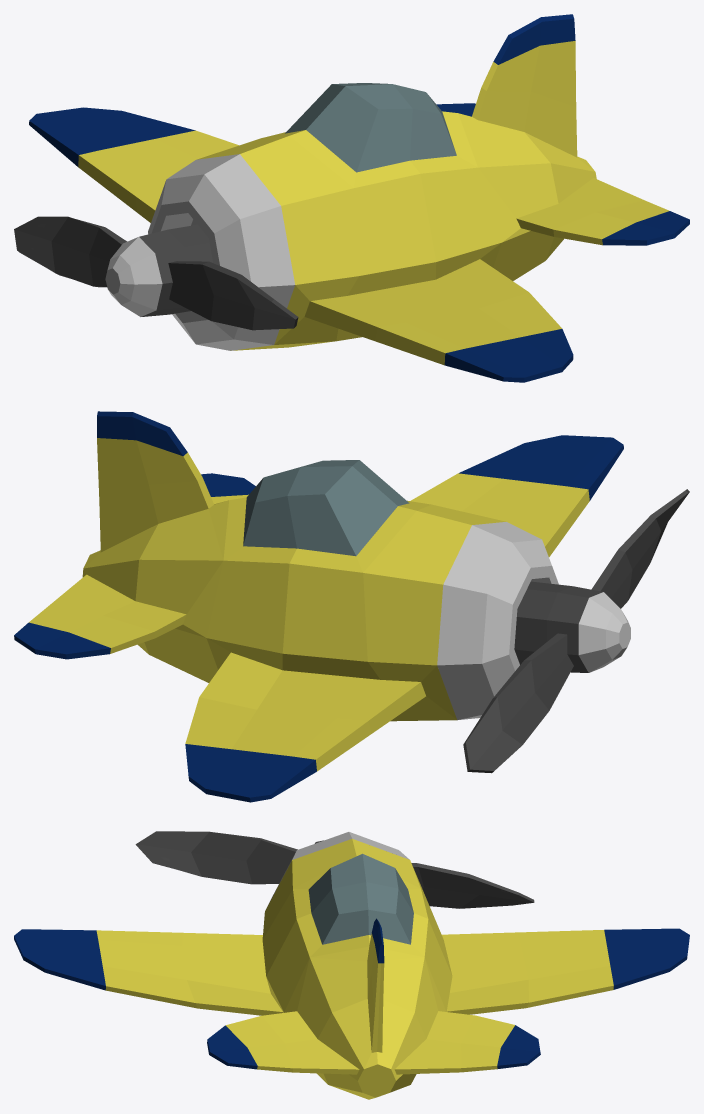
File: airplane_compression.glb
The picture shows the model from 3 angles, top to bottom: view 1: azimuth 30°, elevation 25°; view 2: azimuth 150°, elevation 25°; view 3: azimuth 270°, elevation 25°; orthographic projection. The views are drawn at different scales.
Visible parts, largest first — view 1: OBJ_Airplane; view 2: OBJ_Airplane; view 3: OBJ_Airplane.
Boxes of the visible parts, x1=… form: OBJ_Airplane: x1=14, y1=14, x2=689, y2=382; OBJ_Airplane: x1=14, y1=411, x2=689, y2=802; OBJ_Airplane: x1=14, y1=831, x2=689, y2=1099.
Bounding box in the file's own units: 6.76 × 3.27 × 9.67.
